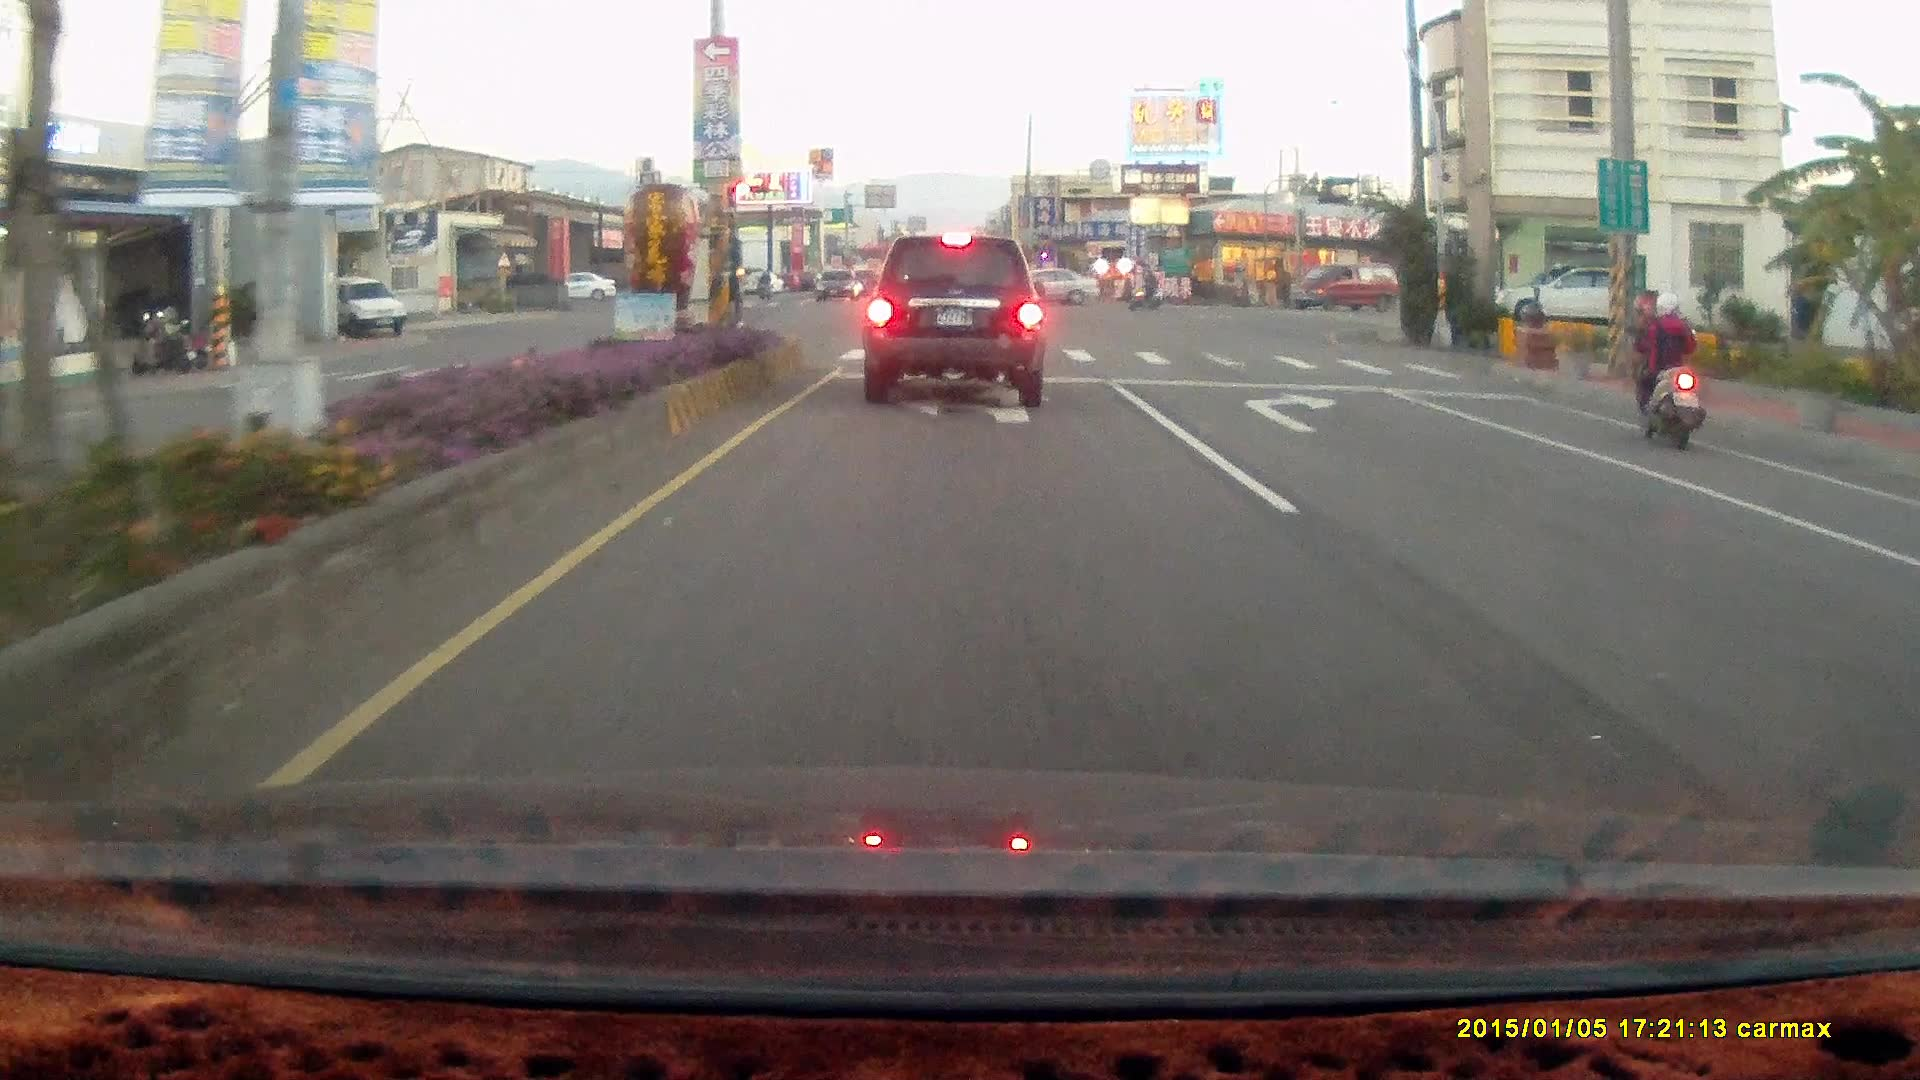rider: (1629, 288, 1705, 452), (1126, 270, 1161, 312)
vehicle: (861, 233, 1047, 408), (1494, 262, 1650, 329), (1494, 265, 1619, 331), (1896, 493, 1920, 836), (1883, 528, 1920, 690), (325, 278, 410, 341), (1288, 262, 1397, 311), (990, 267, 1100, 312), (1292, 268, 1389, 315), (991, 265, 1099, 307)
